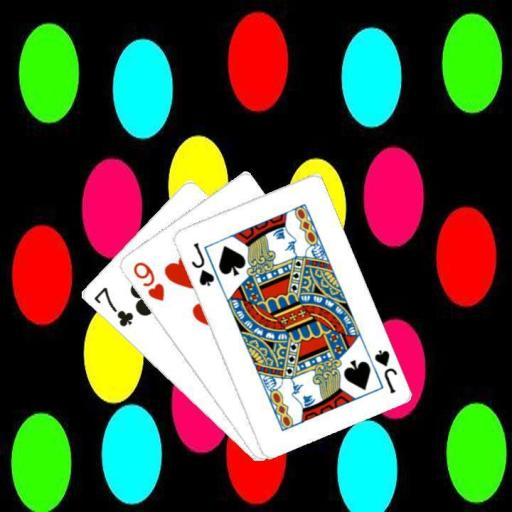card-corner: (90, 284, 135, 328), (129, 258, 166, 303), (188, 239, 215, 288), (371, 346, 398, 395)
